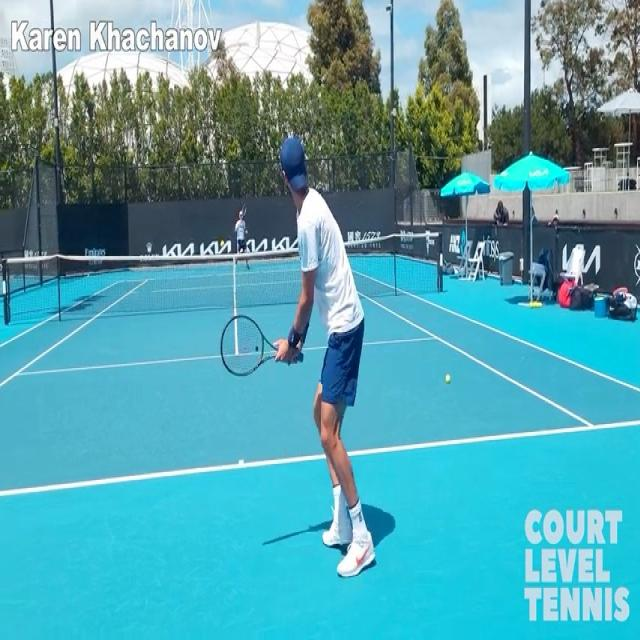backhand-ready: (223, 132, 377, 584)
